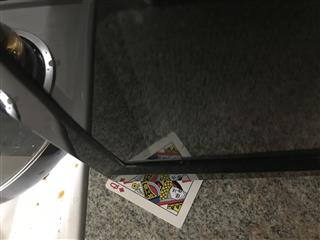QueenOfDiamonds: (104, 177, 204, 229)
